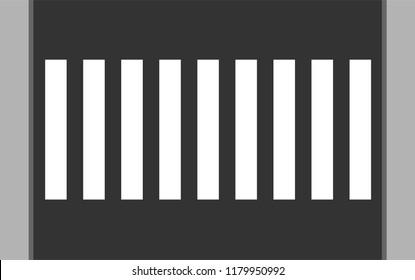crosswalk: (33, 49, 415, 222)
